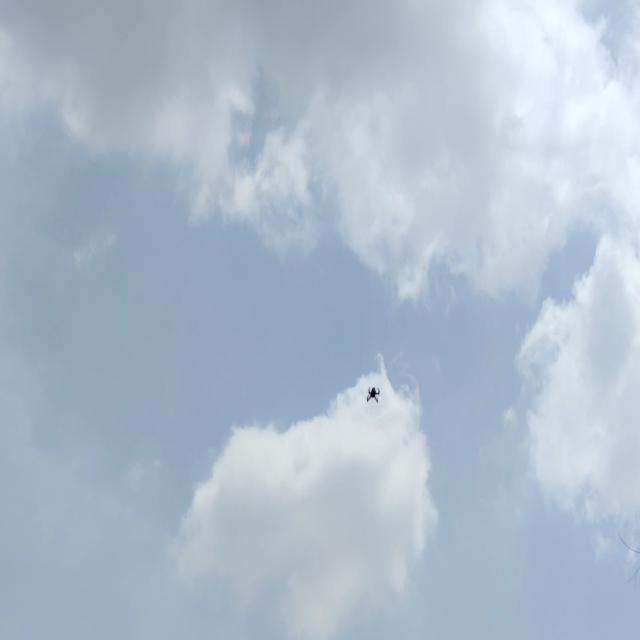drone: (362, 384, 388, 407)
